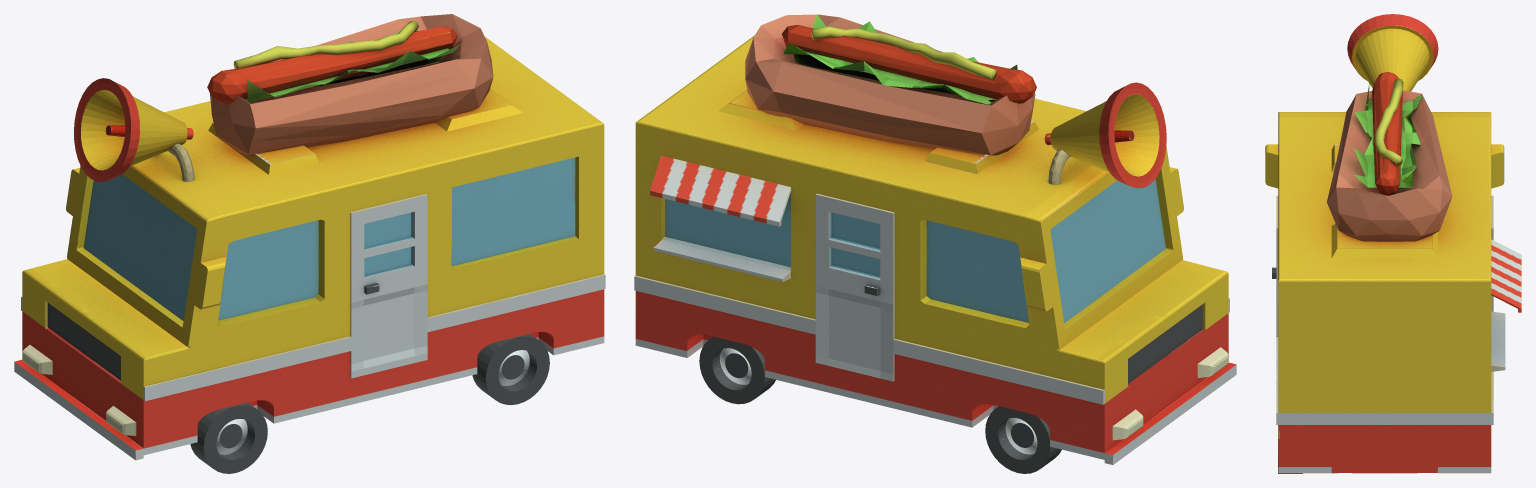
File: Hotdogtruck.FBX
The picture shows the model from 3 angles, left to right: view 1: azimuth 30°, elevation 25°; view 2: azimuth 150°, elevation 25°; view 3: azimuth 270°, elevation 25°; orthographic projection. The views are drawn at different scales.
Visible parts, largest first — view 1: Hot_dog_truck, Separated_wheels4, Separated_wheels3; view 2: Hot_dog_truck, Separated_wheels2, Separated_wheels1; view 3: Hot_dog_truck.
Boxes of the visible parts, x1,y1,x2,y2 form: Hot_dog_truck: [14, 14, 605, 460]; Separated_wheels4: [472, 333, 549, 404]; Separated_wheels3: [190, 402, 267, 473]; Hot_dog_truck: [634, 14, 1236, 464]; Separated_wheels2: [699, 336, 775, 404]; Separated_wheels1: [985, 406, 1061, 473]; Hot_dog_truck: [1265, 14, 1521, 473].
Size of the model in its own units: 20.28 by 14.65 by 10.88.
Materials: 5 (5 with a texture image).
